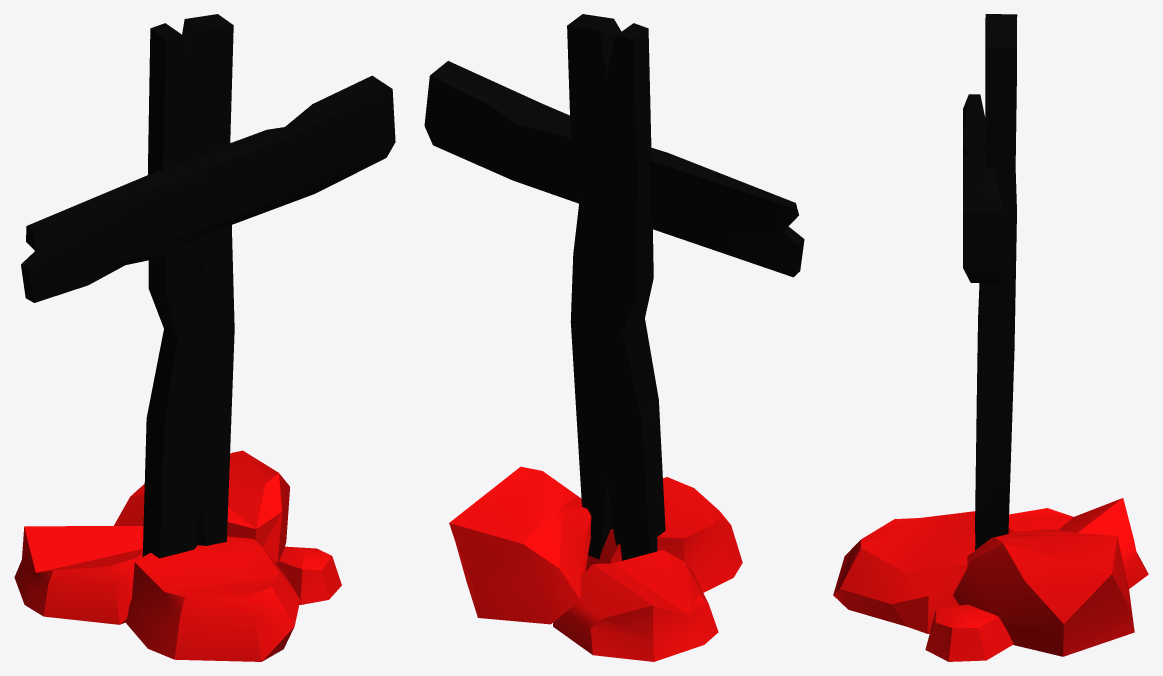
File: SM_Prop_Grave_01.fbx
The picture shows the model from 3 angles, left to right: view 1: azimuth 30°, elevation 25°; view 2: azimuth 150°, elevation 25°; view 3: azimuth 270°, elevation 25°; orthographic projection.
Visible parts, largest first — view 1: SM_Prop_Grave_01; view 2: SM_Prop_Grave_01; view 3: SM_Prop_Grave_01.
Part boxes in pixels (<box>): SM_Prop_Grave_01: <box>14,14,395,661</box>; SM_Prop_Grave_01: <box>424,14,804,661</box>; SM_Prop_Grave_01: <box>833,14,1148,661</box>.
Size of the model in its own units: 55.96 by 83.18 by 41.45.
